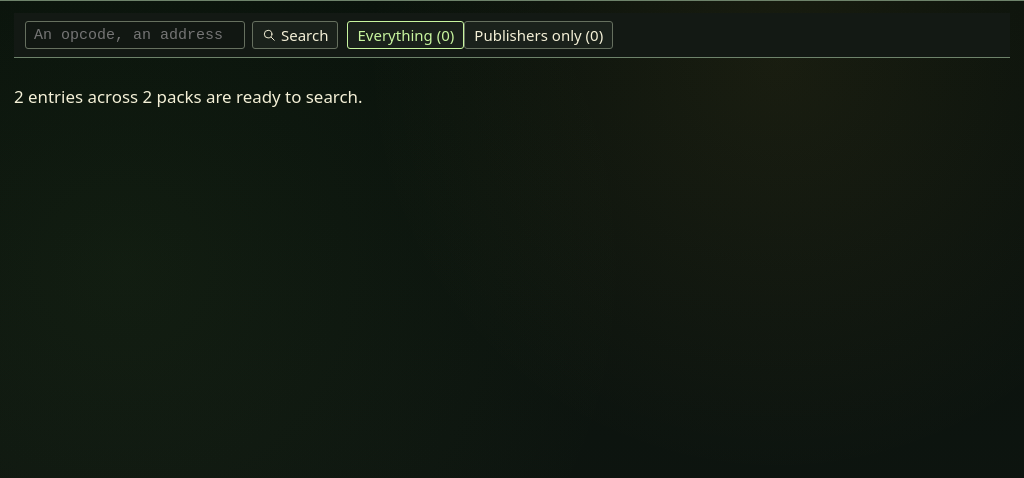
Test: being told what you are reading › separates publisher material from everything else under headings, not by order alone
Type "OSWRCH" into the search field named "Search imported documentation" at point(135, 35), box top-left (25, 21), bottom-right (245, 49)
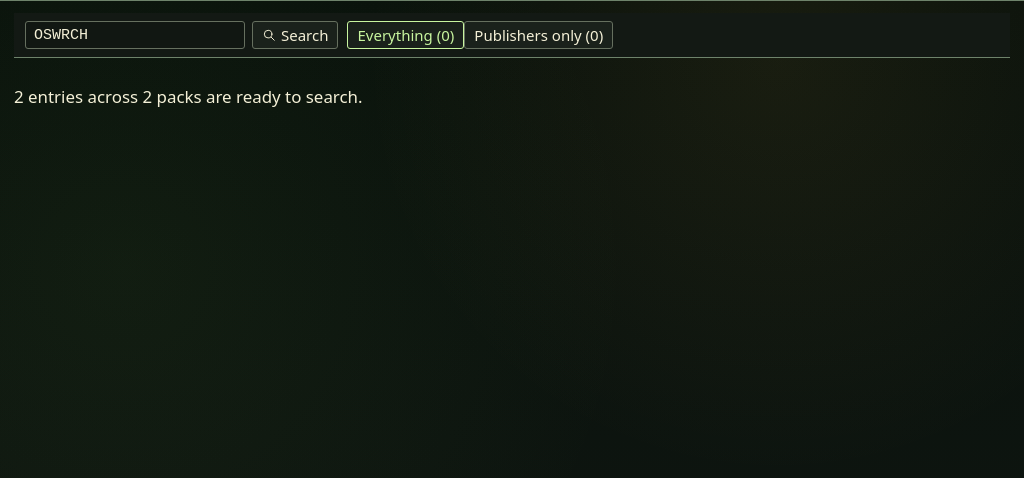
Submit the form, box top-left (25, 21), bottom-right (338, 49)
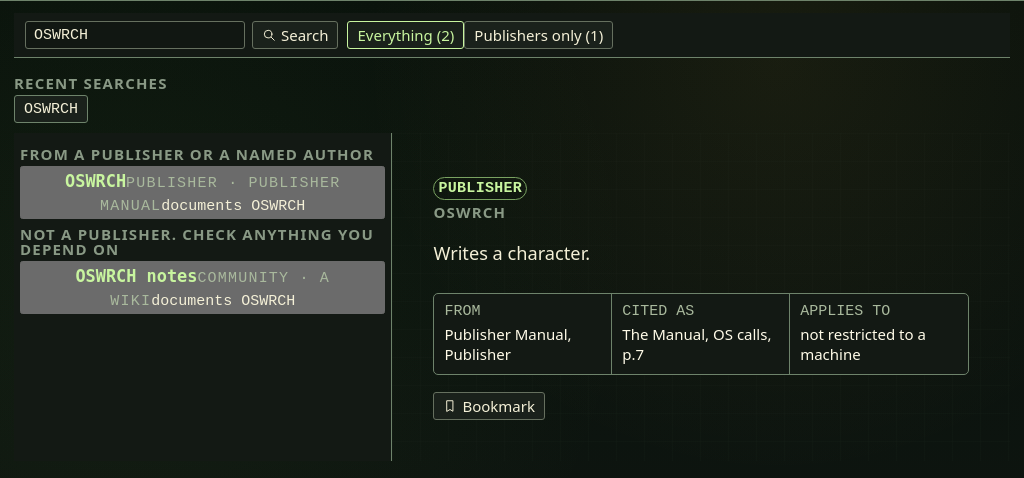
Expected: the text "OSWRCH" is shown, top-left (65, 171), bottom-right (126, 191)
Expected: the text "OSWRCH notes" is shown, top-left (75, 266), bottom-right (197, 286)
